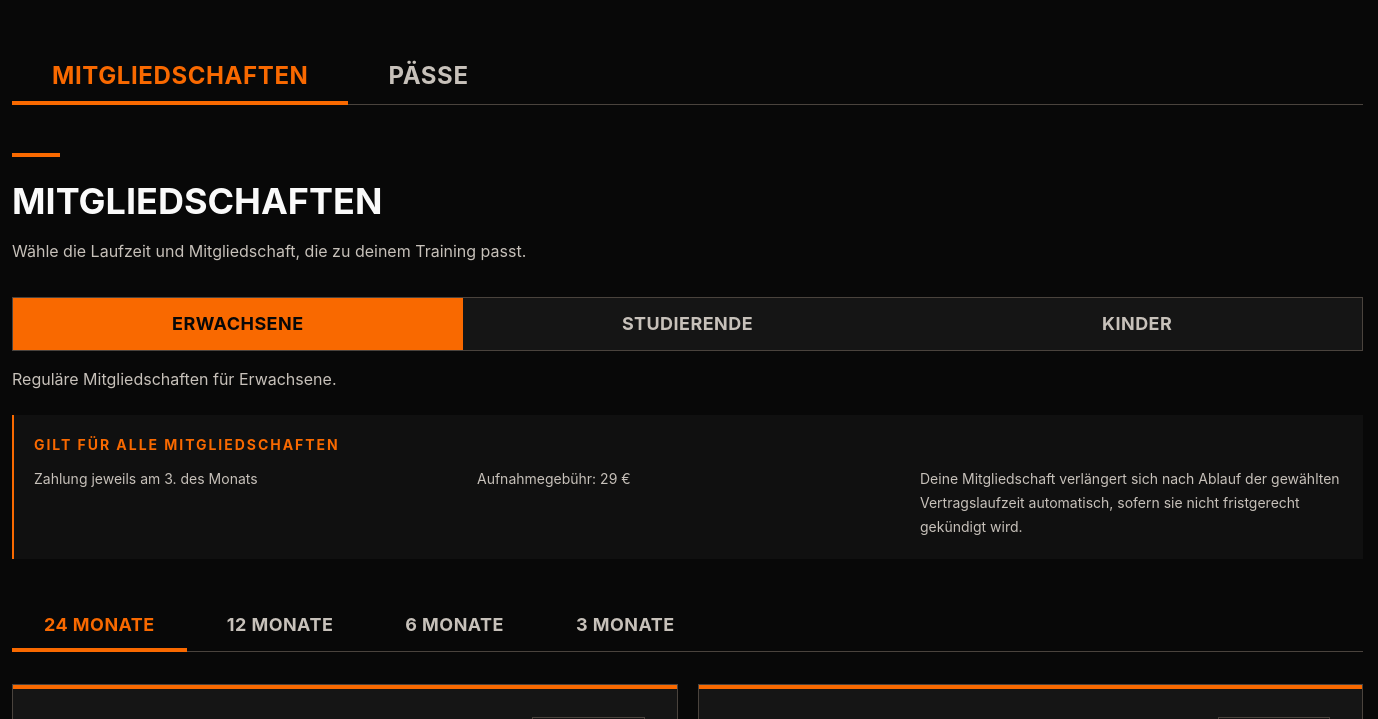
Test: PricingOfferTabs › starts with memberships and switches to the five passes
This screenshot has width=1378, height=719.
Click the tab "Pässe". click: (429, 76)
box: left=348, top=48, right=509, bottom=104
(page scrolled)
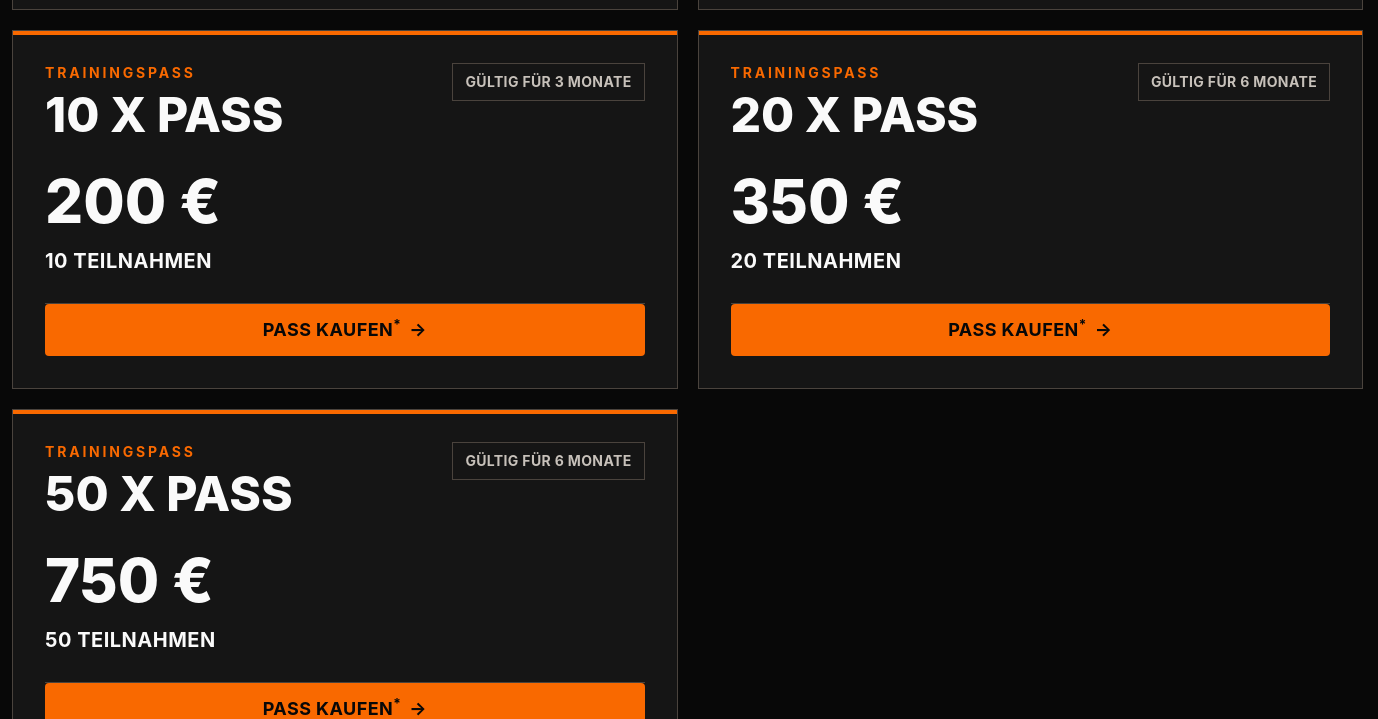
Check: the heading "50 x Pass" is shown, box left=45, top=470, right=293, bottom=518
